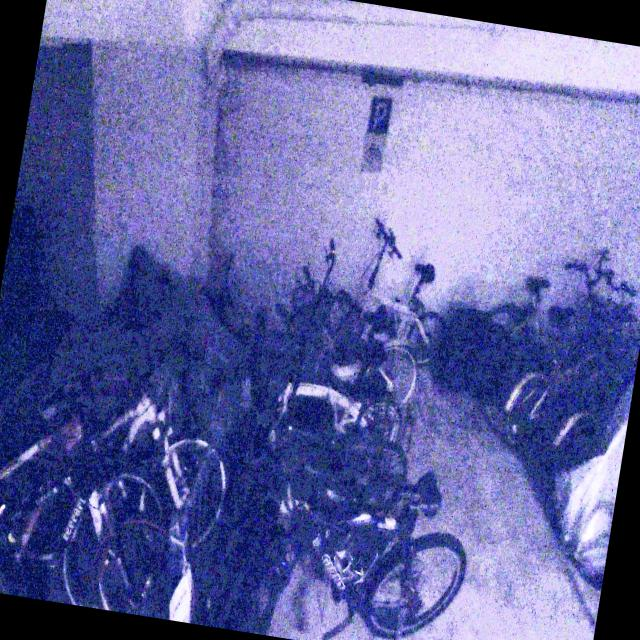bike: (0, 358, 241, 587), (247, 445, 482, 640), (332, 216, 462, 369)
